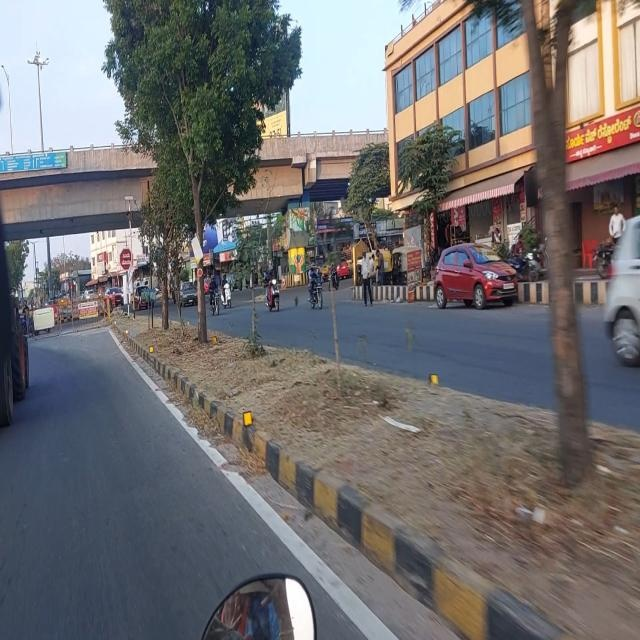bien_nguy_hiem: (118, 247, 133, 272)
